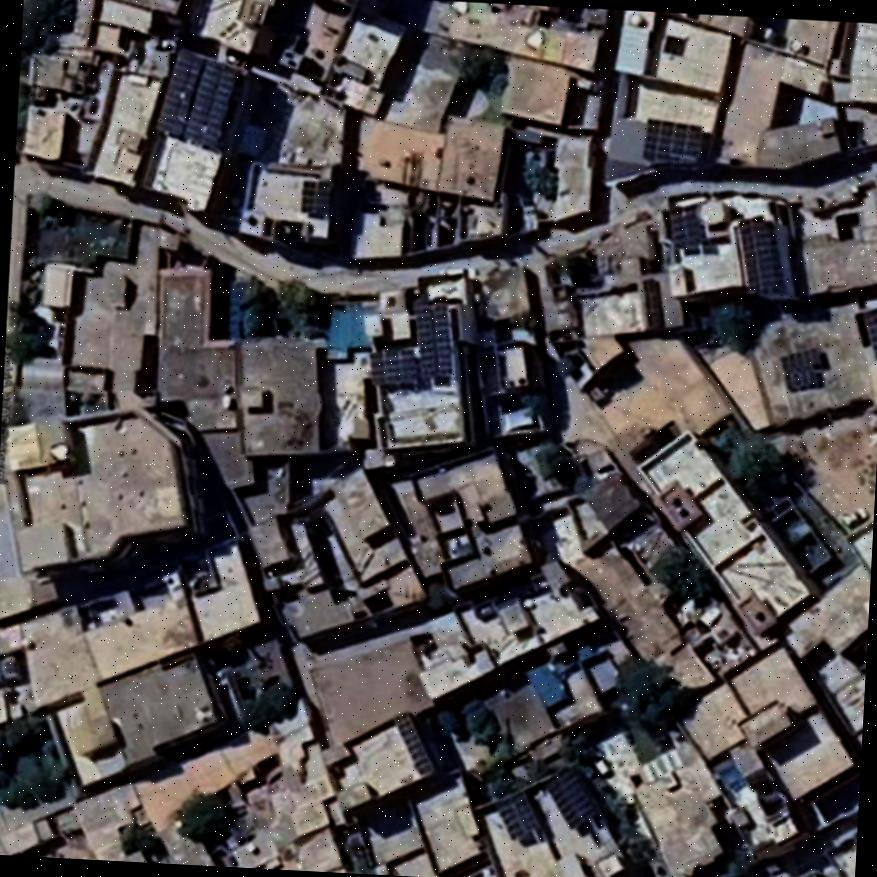Solarpanel: (152, 45, 233, 153), (543, 762, 598, 832), (740, 214, 783, 290), (412, 299, 453, 376), (389, 712, 432, 776), (640, 117, 698, 161), (369, 345, 418, 383), (781, 345, 820, 392), (493, 787, 531, 833), (667, 210, 700, 249), (301, 181, 330, 213), (862, 310, 877, 356)
